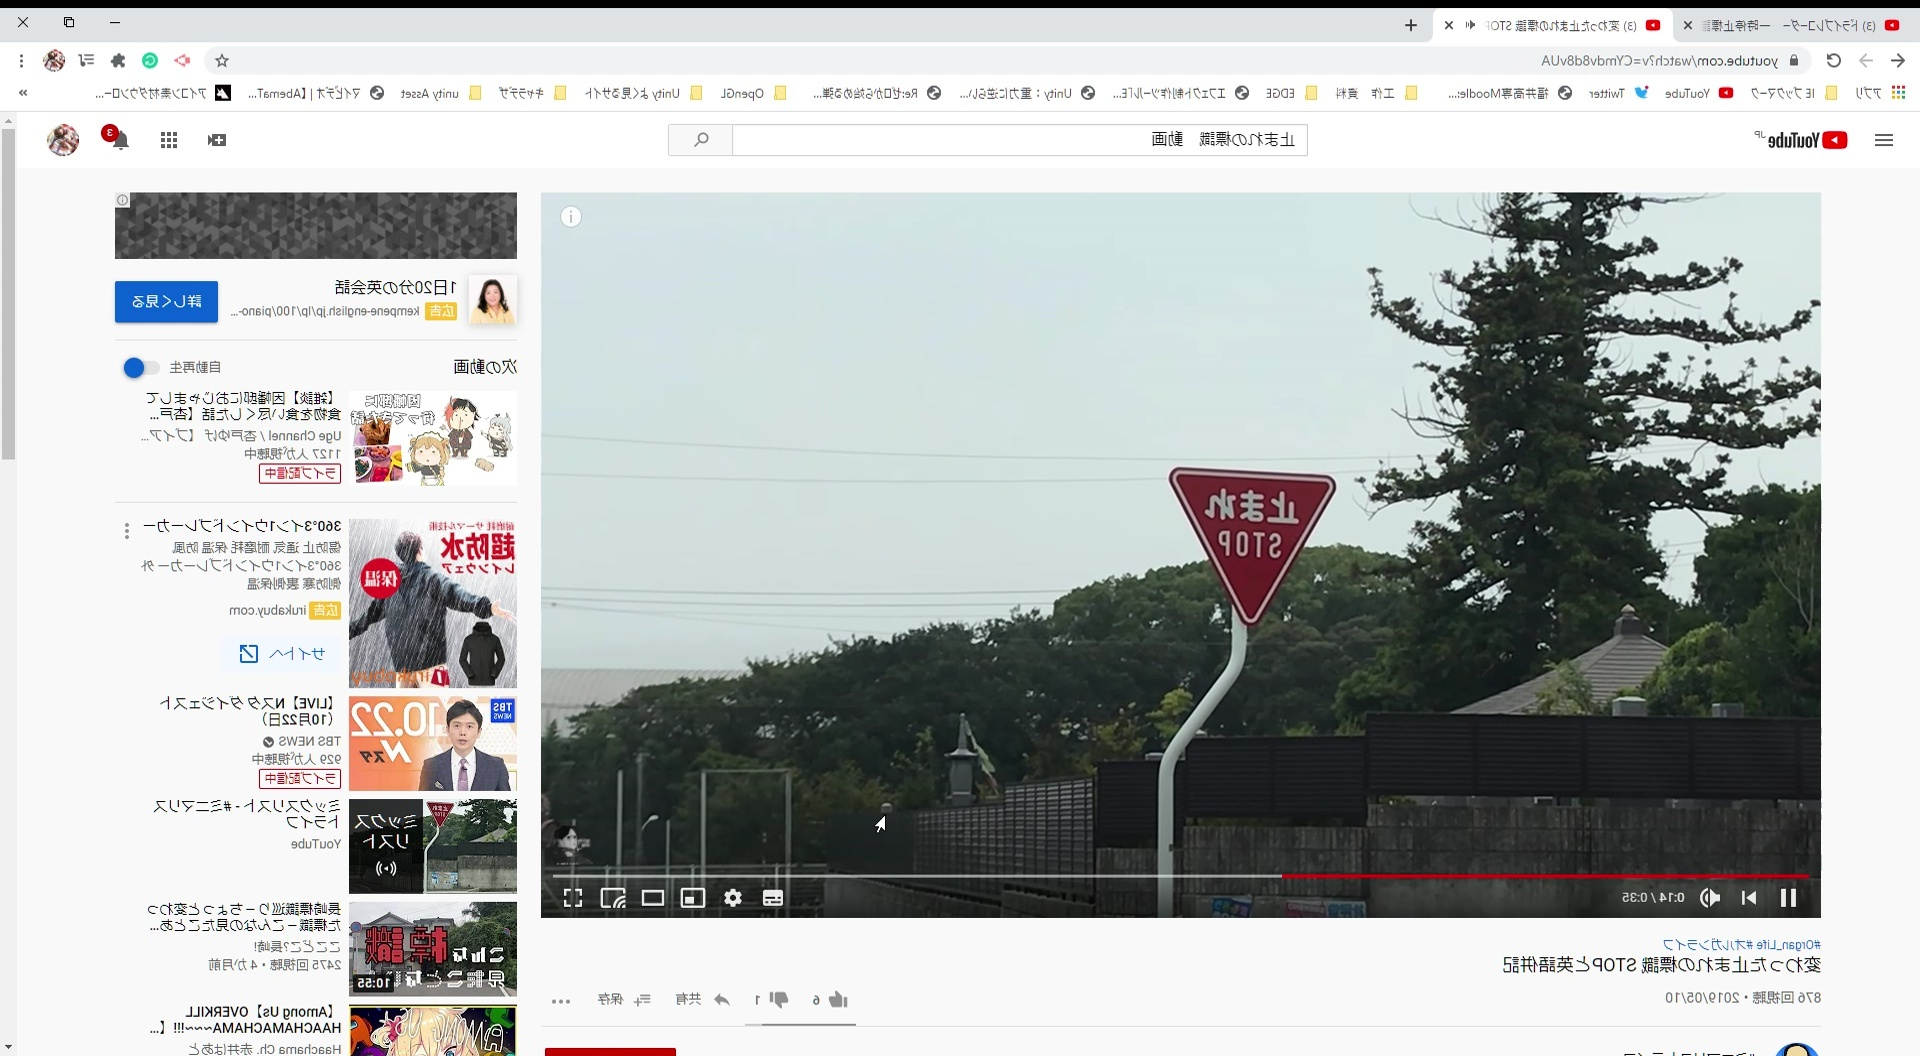Regulatory_sign_triangle: (1150, 447, 1342, 642)
